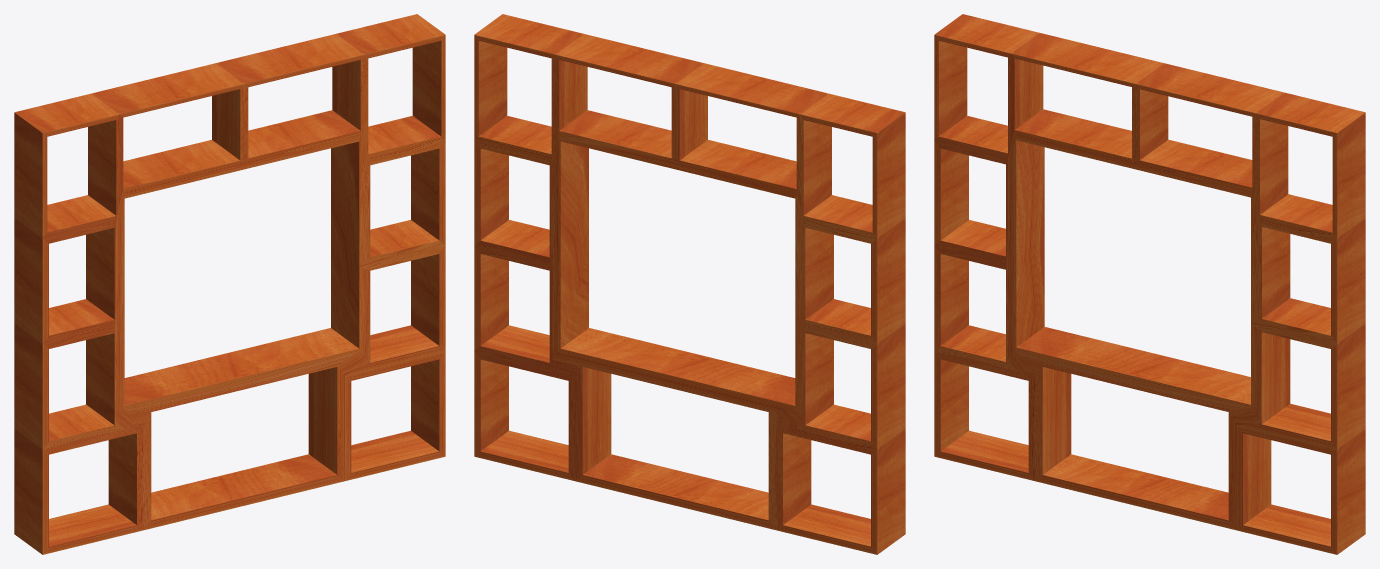
File: estante.fbx
The picture shows the model from 3 angles, left to right: view 1: azimuth 30°, elevation 25°; view 2: azimuth 150°, elevation 25°; view 3: azimuth 330°, elevation 25°; orthographic projection.
Parts seen in each view (by area): view 1: Cubo; view 2: Cubo; view 3: Cubo.
Part boxes in pixels (x1,y1,x2,y2): Cubo: [14, 14, 445, 554]; Cubo: [474, 14, 905, 554]; Cubo: [934, 14, 1365, 554].
Bounding box in the file's own units: 96.8 × 96.8 × 11.83.
1 material, 1 textured.
